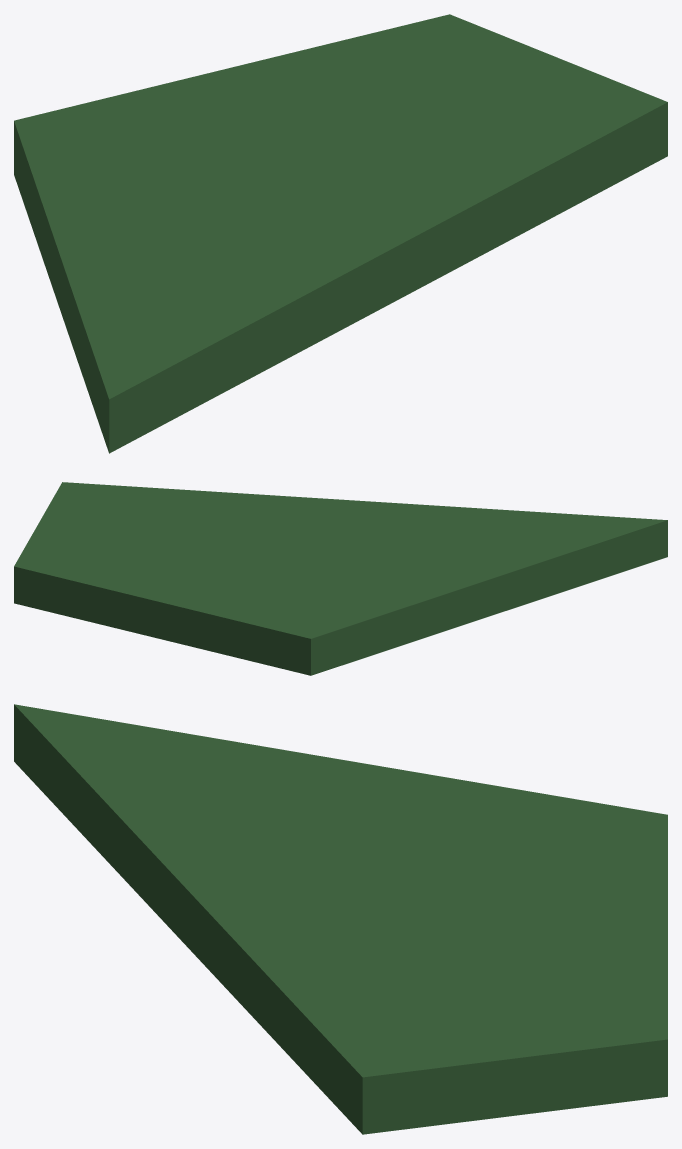
Rendered from x_proval_00_79_1_rmstrd.fbx.
The picture shows the model from 3 angles, top to bottom: view 1: azimuth 30°, elevation 25°; view 2: azimuth 150°, elevation 25°; view 3: azimuth 270°, elevation 25°; orthographic projection. The views are drawn at different scales.
Visible parts, largest first — view 1: x_proval_00_79_1_rmstrd1; view 2: x_proval_00_79_1_rmstrd1; view 3: x_proval_00_79_1_rmstrd1.
Part boxes in pixels (x1=…): x_proval_00_79_1_rmstrd1: x1=14, y1=14, x2=667, y2=453; x_proval_00_79_1_rmstrd1: x1=14, y1=482, x2=667, y2=675; x_proval_00_79_1_rmstrd1: x1=14, y1=704, x2=667, y2=1134.
Size of the model in its own units: 2.8 by 0.2 by 2.07.
